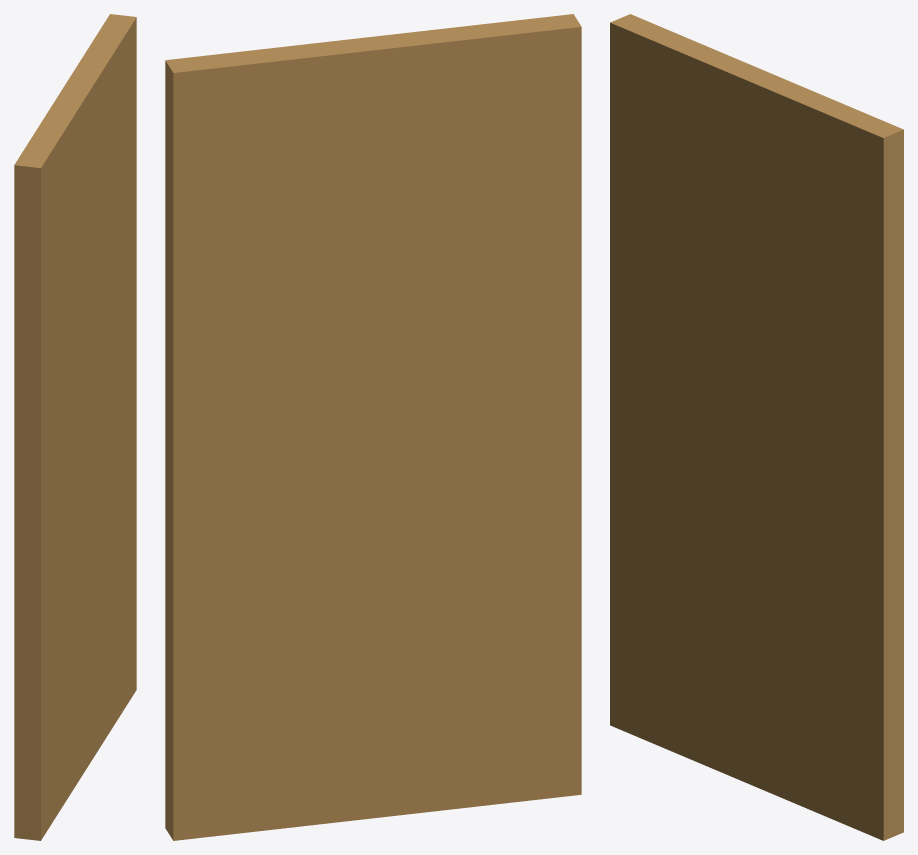
3 views of the same model, side by side, from view 1: azimuth 30°, elevation 25°; view 2: azimuth 150°, elevation 25°; view 3: azimuth 270°, elevation 25° (orthographic). The views are drawn at different scales.
Visible parts, largest first — view 1: FF-W046; view 2: FF-W046; view 3: FF-W046.
Boxes of the visible parts, x1,y1,x2,y2 form: FF-W046: (14,14,136,840); FF-W046: (165,14,581,840); FF-W046: (610,14,903,840).
Bounding box in the file's own units: 0.9173 × 2.42 × 0.9173.
